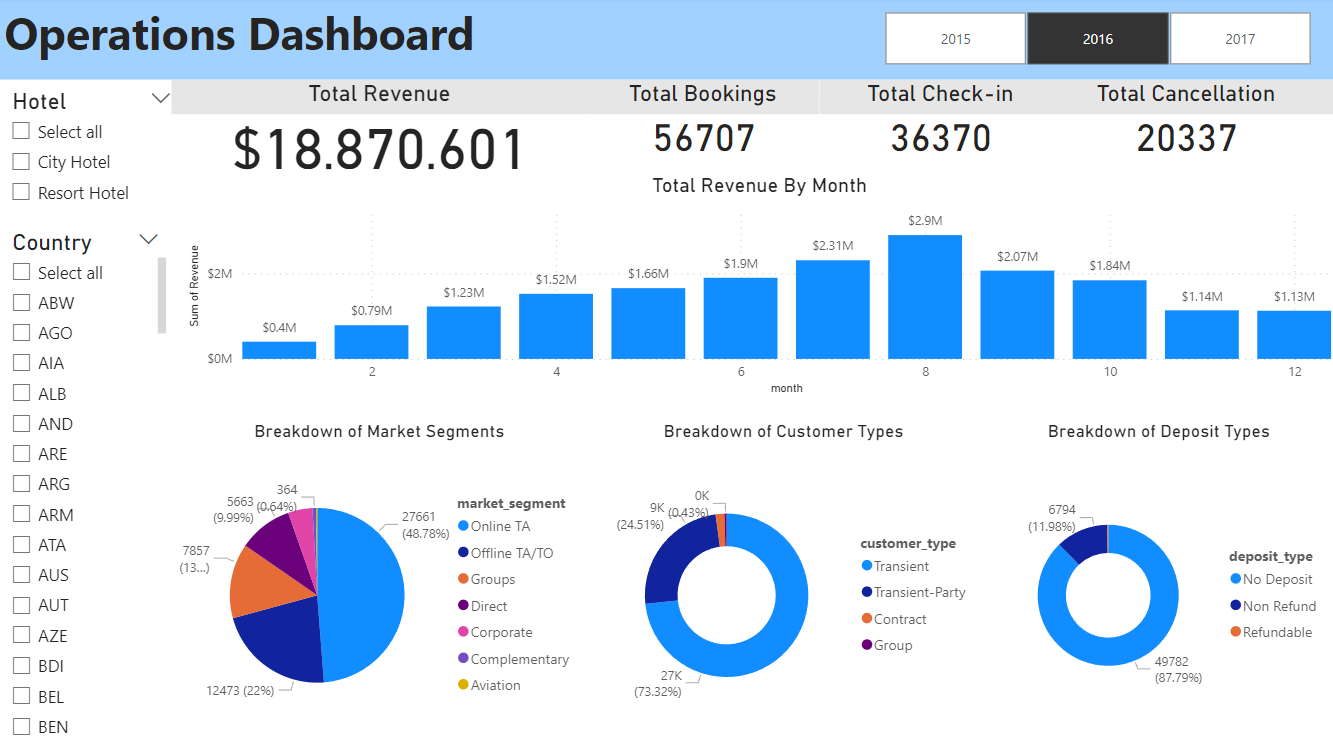

This screenshot's page, from the dashboard's own definition file:
{"tool":"powerbi","page":{"name":"dashboard","canvas":[1280,720],"ordinal":0},"visuals":[{"type":"textbox","box":[0,0,1280,80],"z":0},{"type":"slicer","fields":{"Values":["hotel.year"]},"box":[823.3,8.3,456.7,63.3],"z":1000},{"type":"card","title":"Total Bookings","fields":{"Values":["hotel.total"]},"box":[563.3,80,221.7,76.7],"z":2000},{"type":"card","title":"Total Cancellation","fields":{"Values":["hotel.Canceled"]},"box":[991.7,80,288.3,76.7],"z":3000},{"type":"card","title":"Total Check-in","fields":{"Values":["hotel.Check_Out"]},"box":[785,80,231.7,76.7],"z":4000},{"type":"slicer","fields":{"Values":["hotel.country"]},"box":[0,218.3,165,501.7],"z":5000},{"type":"slicer","fields":{"Values":["hotel.hotel"]},"box":[0,83.3,176.7,135],"z":6000},{"type":"card","title":"Total Revenue","fields":{"Values":["Sum(hotel.Revenue)"]},"box":[165,80,398.3,90],"z":7000},{"type":"clusteredColumnChart","title":"Total Revenue By Month","fields":{"Y":["Sum(hotel.Revenue)"],"Category":["hotel.month"]},"box":[176.7,170,1103.3,216.7],"z":8000},{"type":"pieChart","title":"Breakdown of Market Segments","fields":{"Category":["hotel.market_segment"],"Y":["hotel.total"]},"box":[165,406.7,398.3,313.3],"z":9000},{"type":"donutChart","title":"Breakdown of Customer Types","fields":{"Category":["hotel.customer_type"],"Y":["hotel.Check_Out"]},"box":[563.3,406.7,376.7,313.3],"z":10000},{"type":"donutChart","title":"Breakdown of Deposit Types","fields":{"Y":["hotel.total"],"Category":["hotel.deposit_type"]},"box":[940,406.7,340,313.3],"z":11000}]}

Visuals, with their boxes in screenshot pixels (x1, y1, x2, y2), scaled from the page's 1280x720 canvas onto the 1333x745 screenshot:
textbox: <box>0,0,1332,83</box>
slicer - hotel.year: <box>857,9,1332,74</box>
"Total Bookings" card: <box>587,83,818,162</box>
"Total Cancellation" card: <box>1033,83,1332,162</box>
"Total Check-in" card: <box>818,83,1059,162</box>
slicer - hotel.country: <box>0,226,172,744</box>
slicer - hotel.hotel: <box>0,86,184,226</box>
"Total Revenue" card: <box>172,83,587,176</box>
"Total Revenue By Month" clusteredColumnChart: <box>184,176,1332,400</box>
"Breakdown of Market Segments" pieChart: <box>172,421,587,744</box>
"Breakdown of Customer Types" donutChart: <box>587,421,979,744</box>
"Breakdown of Deposit Types" donutChart: <box>979,421,1332,744</box>
